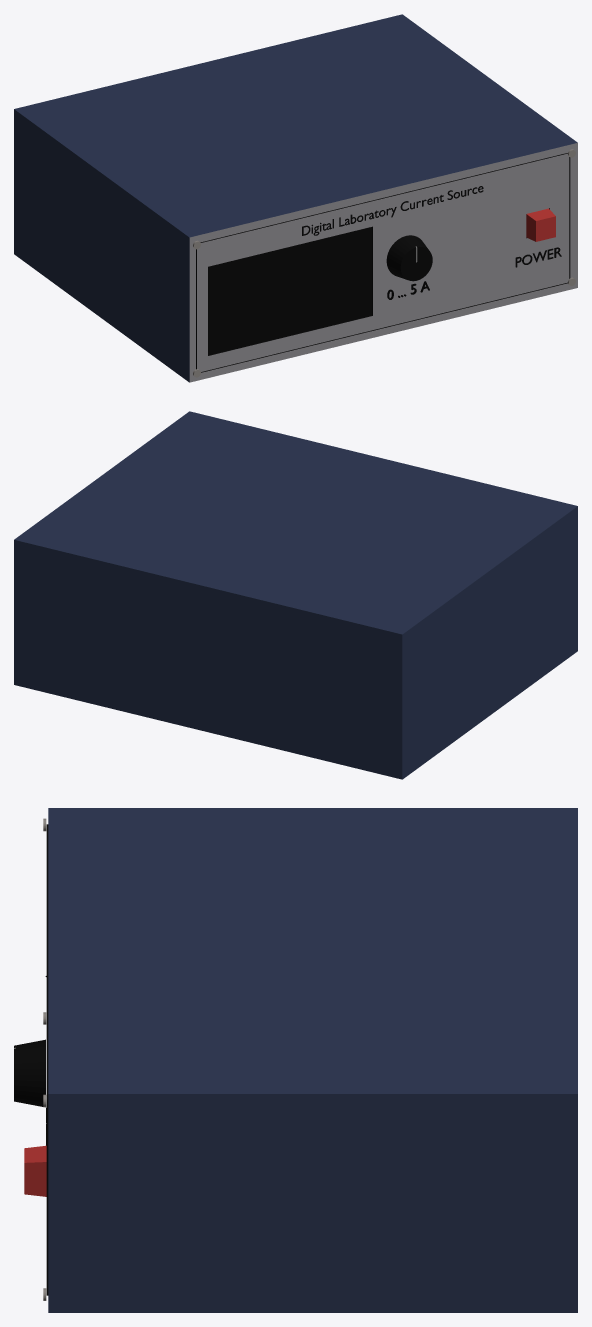
Rendered from currentSource.glb.
The picture shows the model from 3 angles, top to bottom: view 1: azimuth 30°, elevation 25°; view 2: azimuth 150°, elevation 25°; view 3: azimuth 270°, elevation 25°; orthographic projection. The views are drawn at different scales.
Parts seen in each view (by area): view 1: stand.017, contrast, power; view 2: stand.017; view 3: stand.017, contrast, power.
Boxes of the visible parts, left/top/right/bottom form: stand.017: left=14, top=14, right=577, bottom=382; contrast: left=386, top=235, right=432, bottom=281; power: left=526, top=208, right=555, bottom=241; stand.017: left=14, top=411, right=577, bottom=779; stand.017: left=43, top=808, right=577, bottom=1312; contrast: left=14, top=1039, right=45, bottom=1106; power: left=24, top=1145, right=46, bottom=1196.
Bounding box in the file's own units: 191 × 68.22 × 159.
